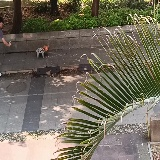fire: (43, 44, 49, 50)
